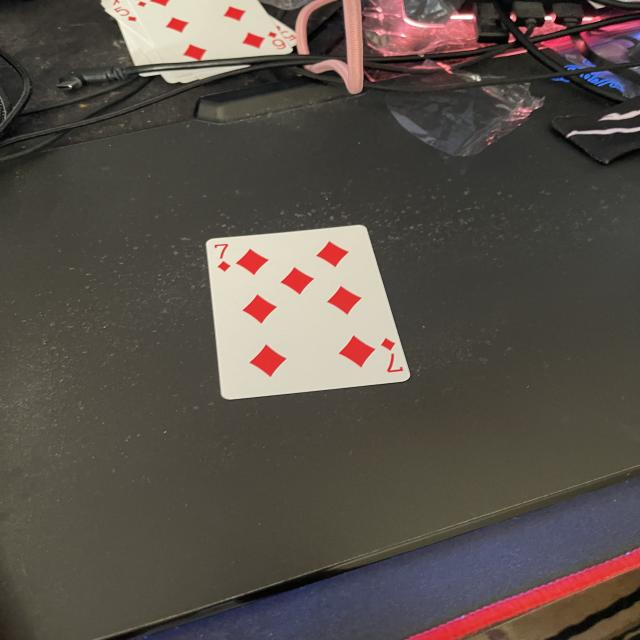6 of diamonds: (131, 1, 292, 64)
7 of diamonds: (207, 226, 411, 400)
